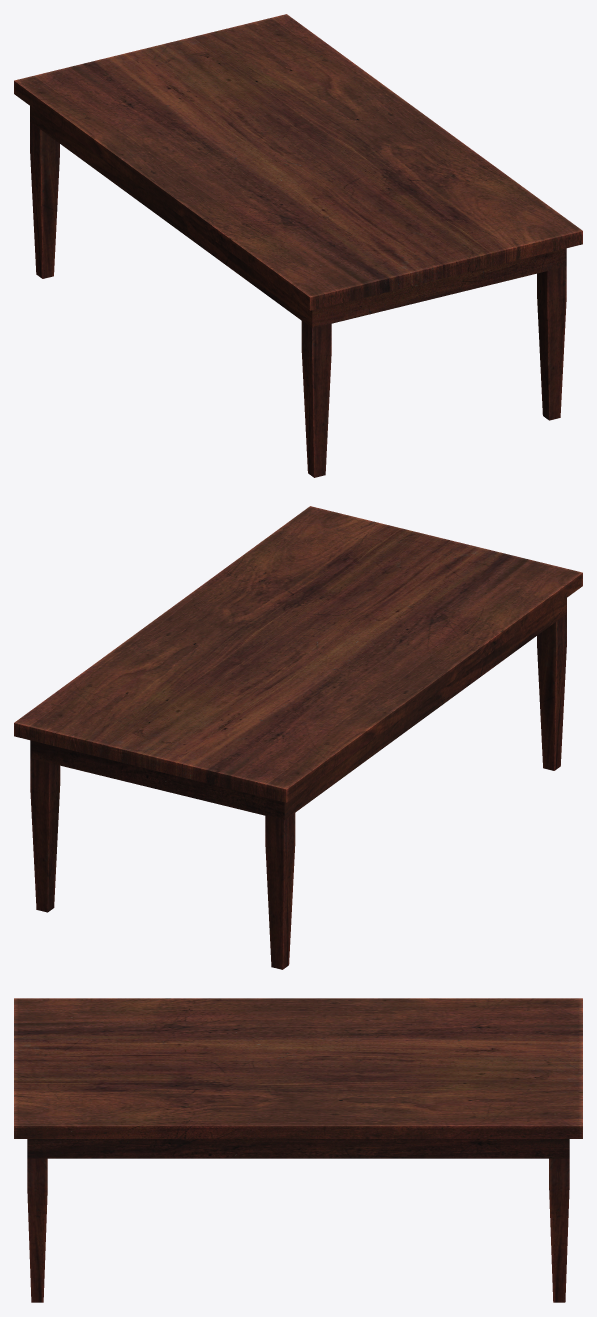
The model's file is Sun_0083_Dining_table.fbx.
The picture shows the model from 3 angles, top to bottom: view 1: azimuth 30°, elevation 25°; view 2: azimuth 150°, elevation 25°; view 3: azimuth 270°, elevation 25°; orthographic projection. The views are drawn at different scales.
Parts seen in each view (by area): view 1: Sun_0083_Dining_table; view 2: Sun_0083_Dining_table; view 3: Sun_0083_Dining_table.
Part boxes in pixels (left/top/right/bottom): Sun_0083_Dining_table: left=14, top=14, right=582, bottom=477; Sun_0083_Dining_table: left=14, top=506, right=582, bottom=969; Sun_0083_Dining_table: left=14, top=998, right=582, bottom=1302.
Bounding box in the file's own units: 116 × 77.31 × 218.
Materials: 1 (1 with a texture image).
